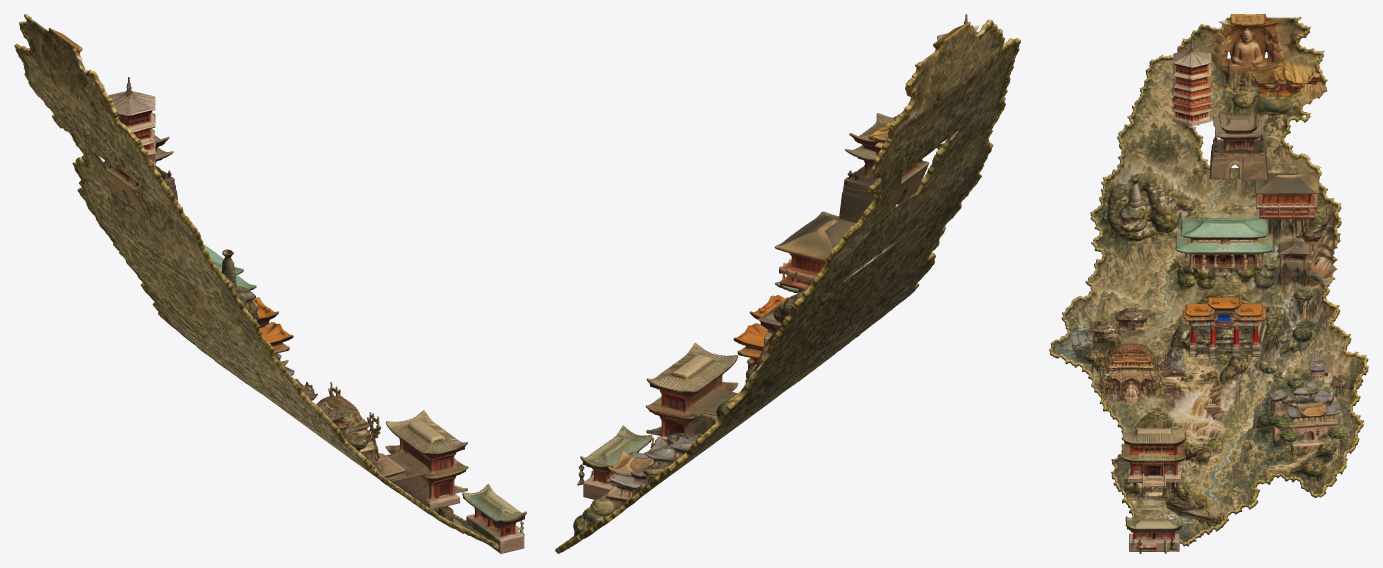
The model's file is temple.glb.
The picture shows the model from 3 angles, left to right: view 1: azimuth 30°, elevation 25°; view 2: azimuth 150°, elevation 25°; view 3: azimuth 270°, elevation 25°; orthographic projection. The views are drawn at different scales.
Visible parts, largest first — view 1: tripo_node_1e1ea890-39d4-4a5d-b905-eef3f30b346e; view 2: tripo_node_1e1ea890-39d4-4a5d-b905-eef3f30b346e; view 3: tripo_node_1e1ea890-39d4-4a5d-b905-eef3f30b346e.
Part boxes in pixels (x1,y1,x2,y2): tripo_node_1e1ea890-39d4-4a5d-b905-eef3f30b346e: (14,14,526,553); tripo_node_1e1ea890-39d4-4a5d-b905-eef3f30b346e: (555,14,1020,553); tripo_node_1e1ea890-39d4-4a5d-b905-eef3f30b346e: (1049,14,1368,553).
Bounding box in the file's own units: 0.7369 × 0.9833 × 0.7073.
1 material, 1 textured.
